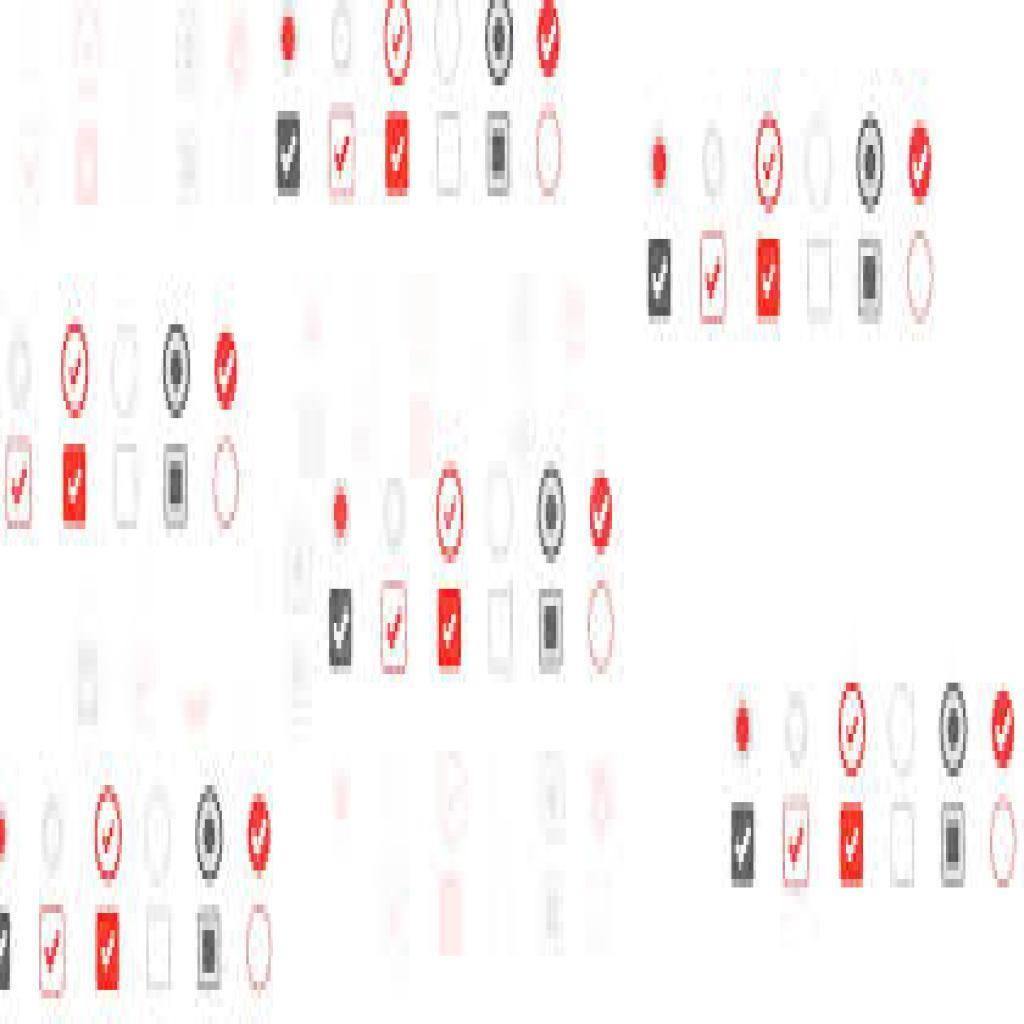checkbox: (378, 1, 421, 81), (326, 103, 360, 203), (754, 105, 784, 218), (38, 903, 71, 1000), (60, 324, 92, 420), (4, 438, 36, 533), (530, 1, 568, 80), (785, 791, 813, 896), (436, 463, 466, 561), (95, 793, 125, 886), (245, 788, 274, 881), (856, 237, 885, 329), (434, 110, 465, 195), (700, 232, 729, 322), (162, 445, 192, 532), (839, 686, 867, 778), (755, 237, 784, 325), (195, 910, 226, 991), (214, 328, 241, 420), (383, 580, 409, 674), (539, 590, 566, 676), (384, 111, 410, 200), (64, 445, 90, 531), (941, 804, 967, 889), (647, 238, 673, 322), (840, 807, 866, 891), (437, 589, 463, 672), (589, 475, 615, 558), (97, 905, 121, 992), (487, 114, 512, 197), (278, 111, 302, 197), (908, 124, 934, 203), (734, 802, 756, 887), (992, 691, 1014, 771), (331, 590, 353, 669)
radio: (191, 784, 229, 880), (480, 1, 520, 91), (938, 674, 971, 781), (534, 105, 569, 205), (209, 435, 244, 533), (643, 119, 675, 218), (903, 229, 936, 323), (587, 579, 619, 674), (162, 326, 193, 421), (991, 792, 1019, 893), (246, 904, 276, 994), (858, 115, 885, 215), (538, 469, 567, 561), (730, 684, 757, 764), (327, 478, 352, 556)
